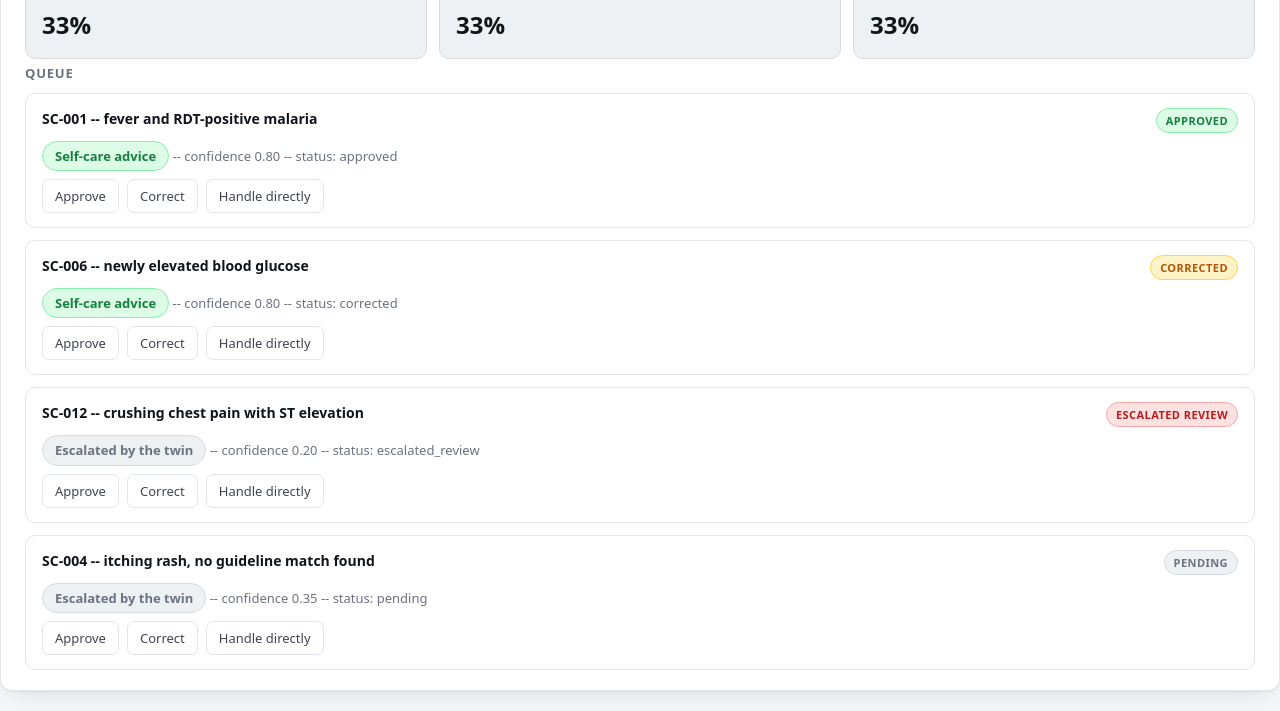
Scenario: ReviewQueueView › updates an item and the dashboard when the doctor approves a pending case
(page scrolled)
Click the button "Approve" below "0.35" at (80, 638), box [42,621,119,655]
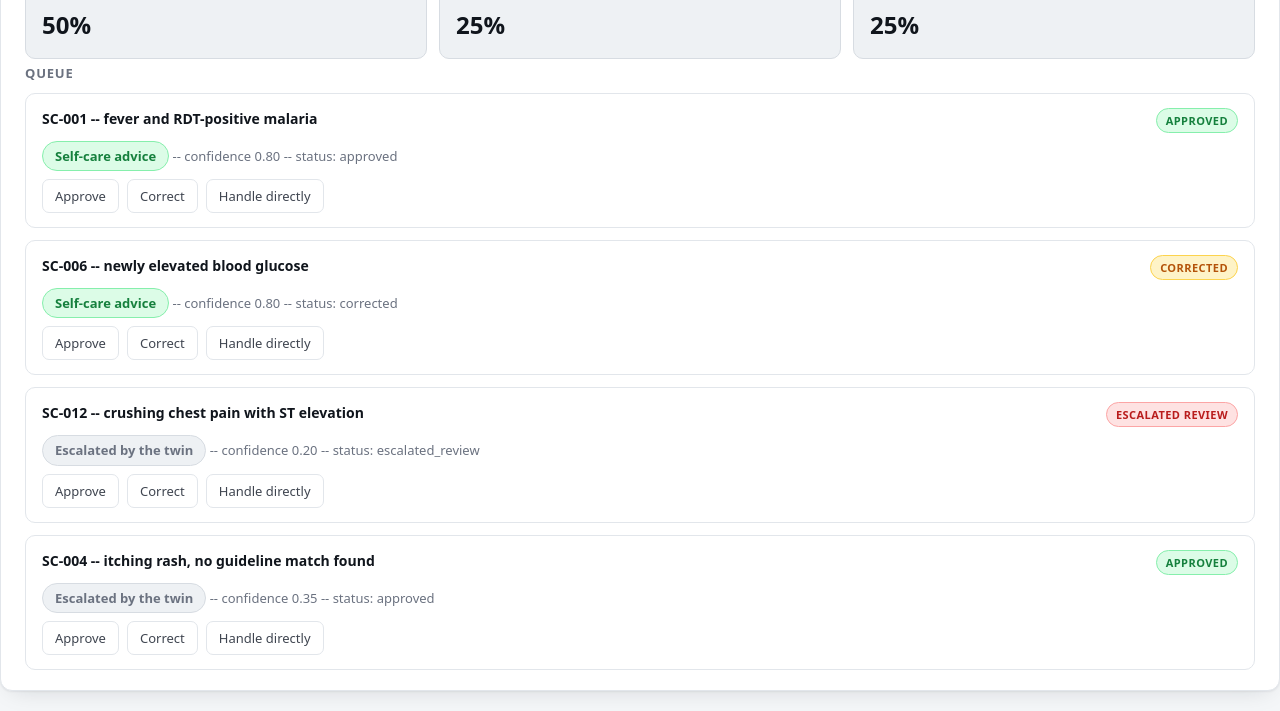
expect the text "Escalated by the twin -- confidence 0.35 -- status: approved" is shown: met, box [42,583,435,613]
expect the text "50%" is shown: met, box [42,8,91,41]
